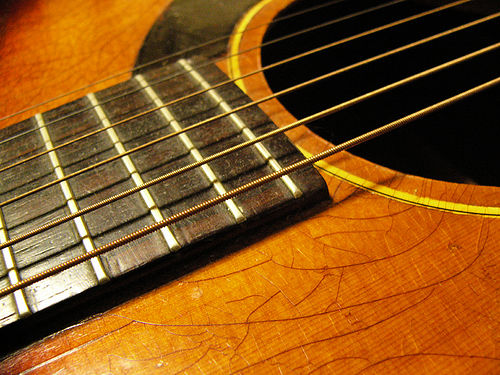guitar: (1, 1, 500, 373)
